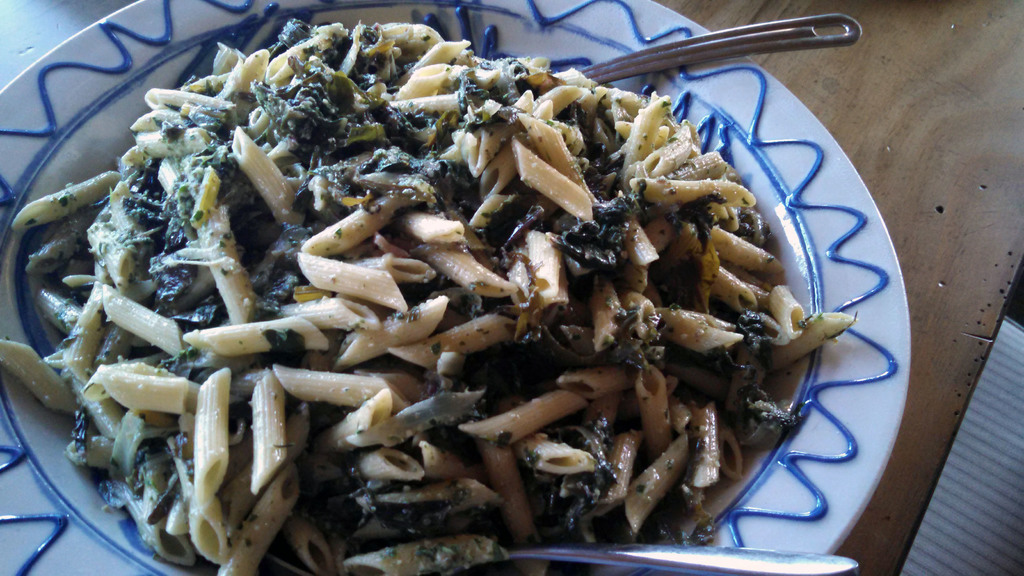pasta: (24, 0, 829, 568)
